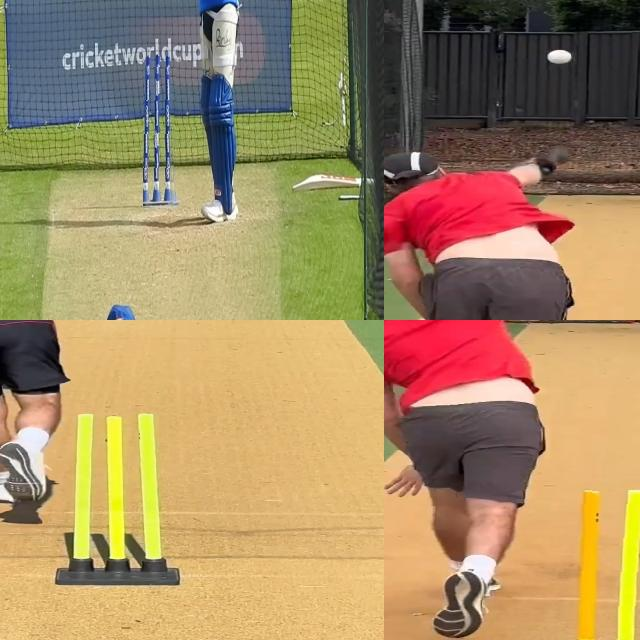Cricket ball: (543, 46, 578, 70)
Stumps: (54, 409, 184, 587), (557, 486, 640, 640), (143, 49, 179, 208)
